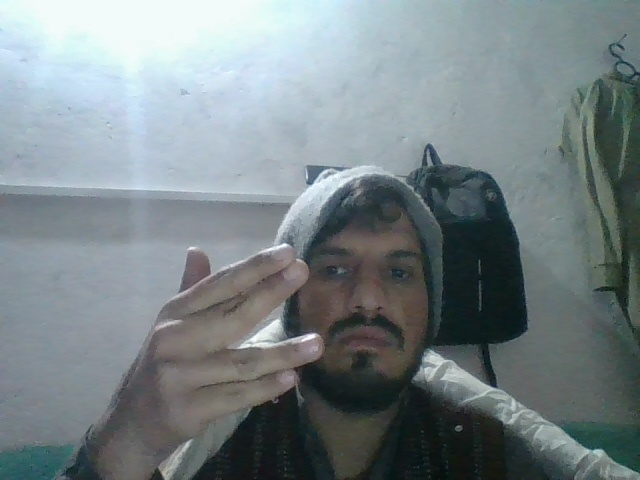LiveLong: (105, 241, 319, 448)
